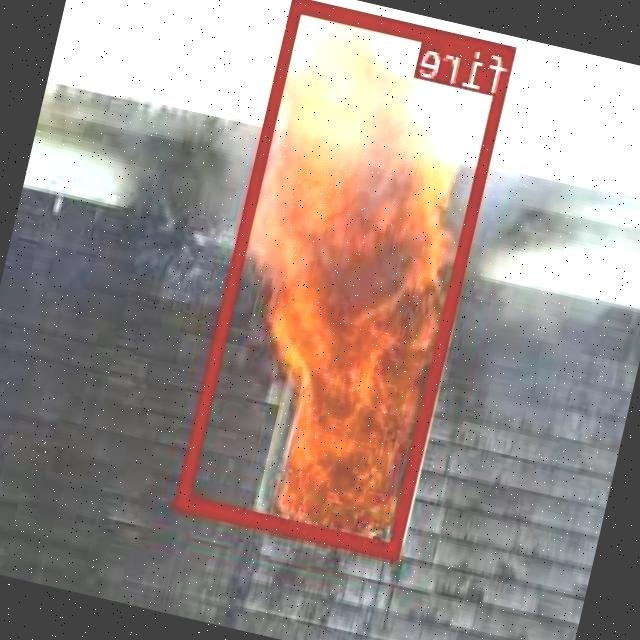fire: (178, 0, 518, 557)
